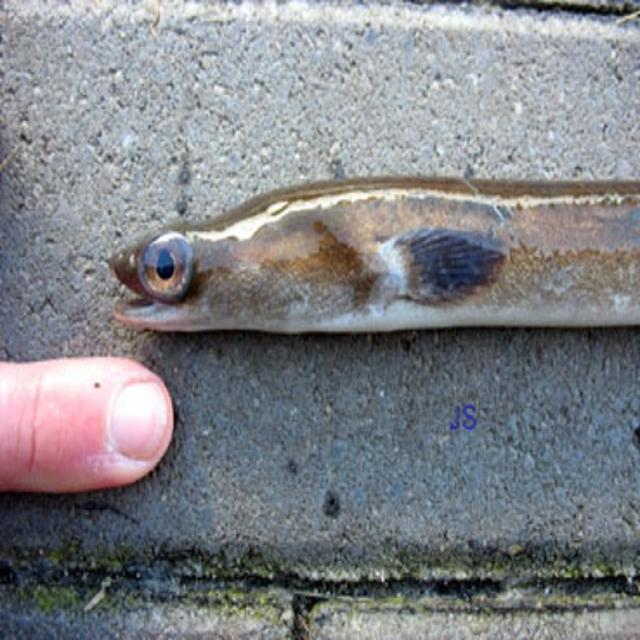Freshwater-Eel: (97, 105, 640, 360)
